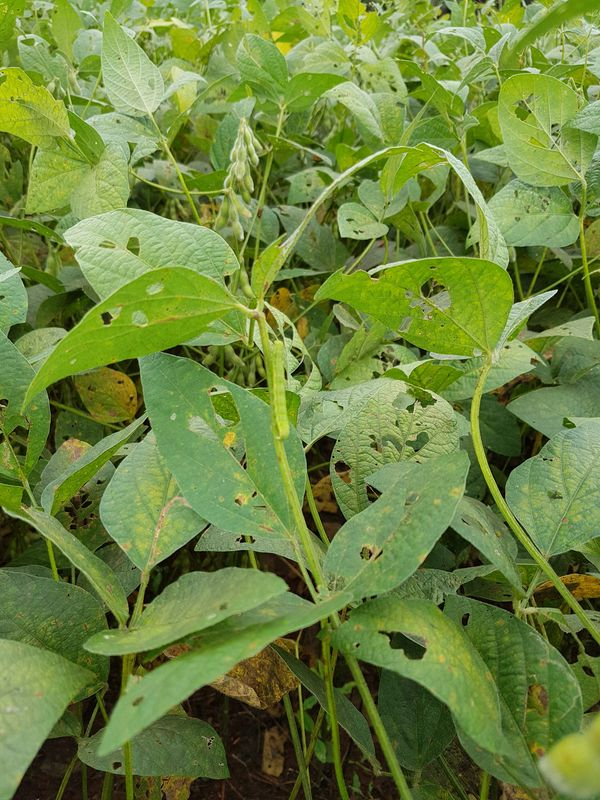Anticarsia_gemmatalis: (252, 332, 307, 448)
